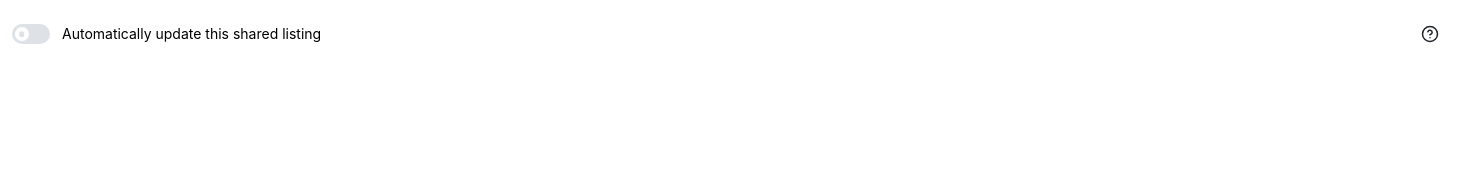
Test: automatic registry update setting › keeps a failed save unchecked and explains the error
The width and height of the screenshot is (1464, 172).
Click the switch: (167, 34) [12,24,321,44]
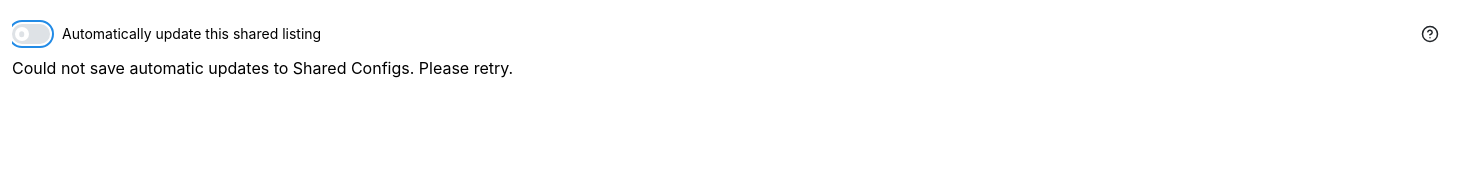
Check: the message shows "Could not save automatic updates to Shared Configs", box [12,58,513,78]
